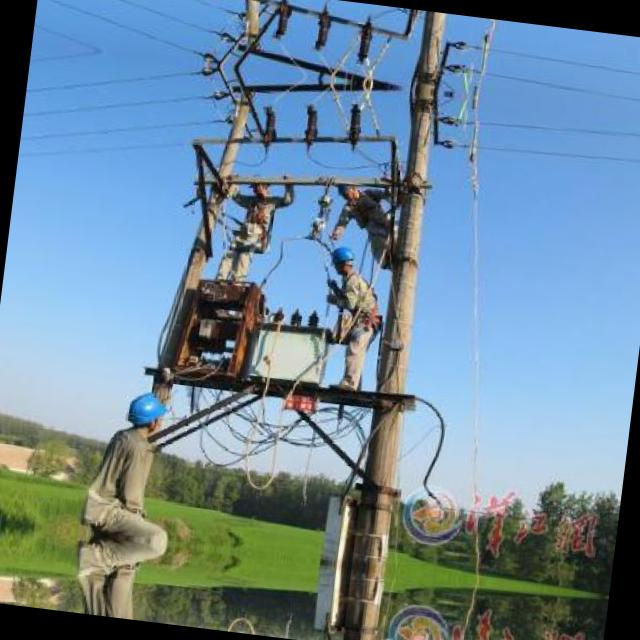helmet: (119, 389, 167, 437), (327, 242, 359, 274), (333, 178, 361, 202)
